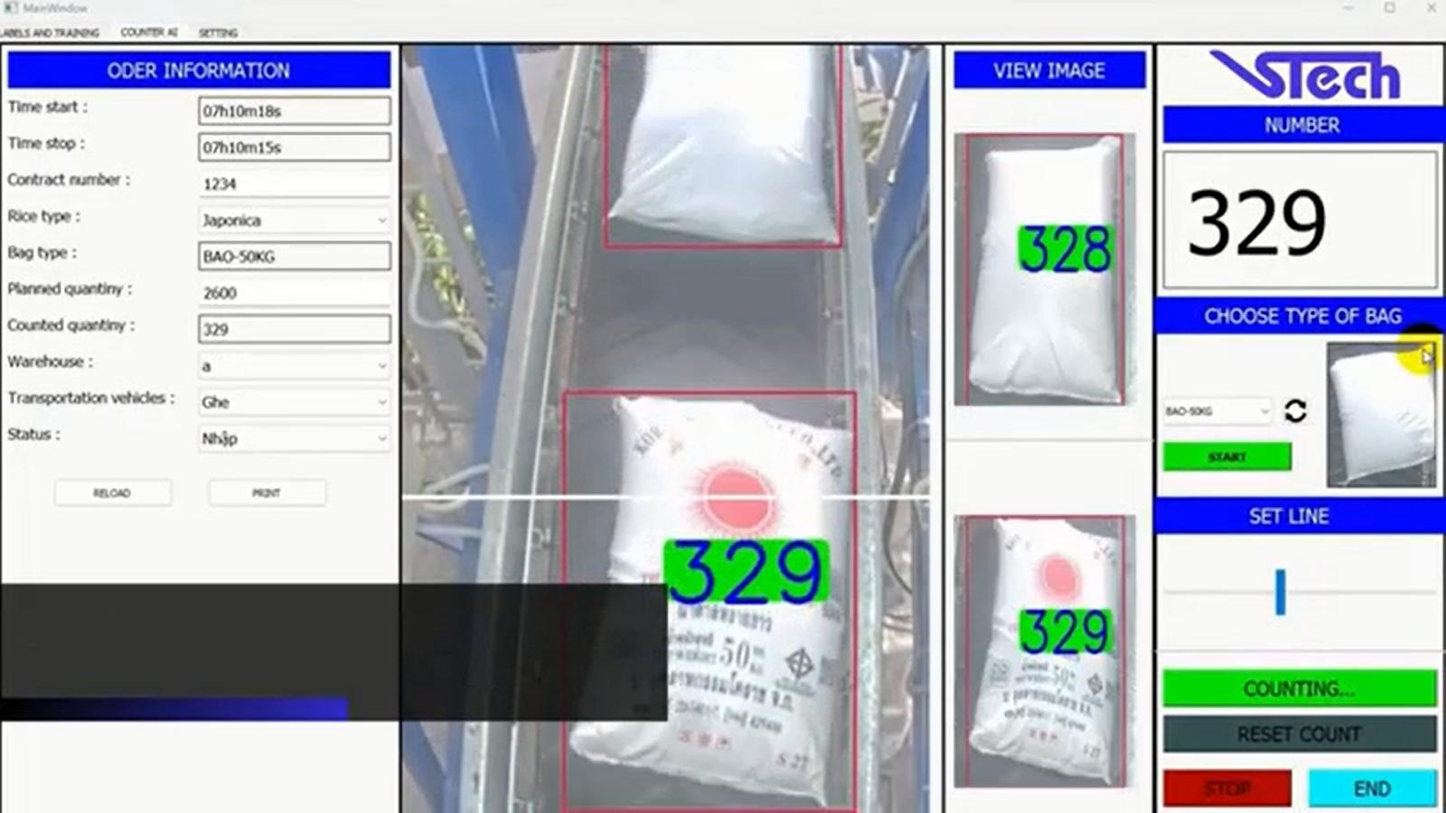rice-bag: (569, 397, 850, 802), (609, 45, 838, 244), (970, 138, 1119, 402), (971, 518, 1119, 780)
